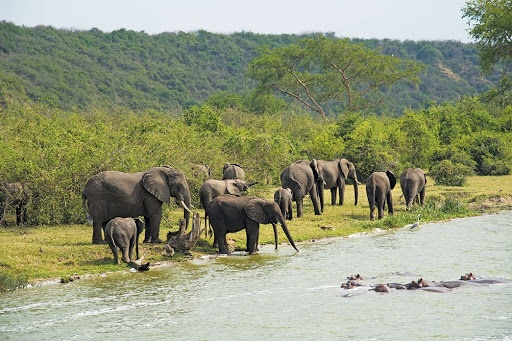elephant: (79, 164, 194, 248), (202, 192, 302, 260), (279, 156, 328, 220), (313, 154, 362, 212), (197, 177, 256, 217), (104, 214, 146, 264), (364, 168, 400, 223), (397, 165, 428, 211), (272, 185, 296, 221), (220, 159, 249, 181)
